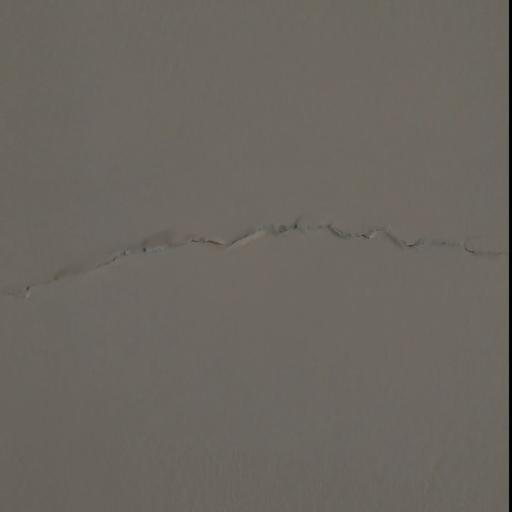minor_crack: (0, 206, 509, 307)
